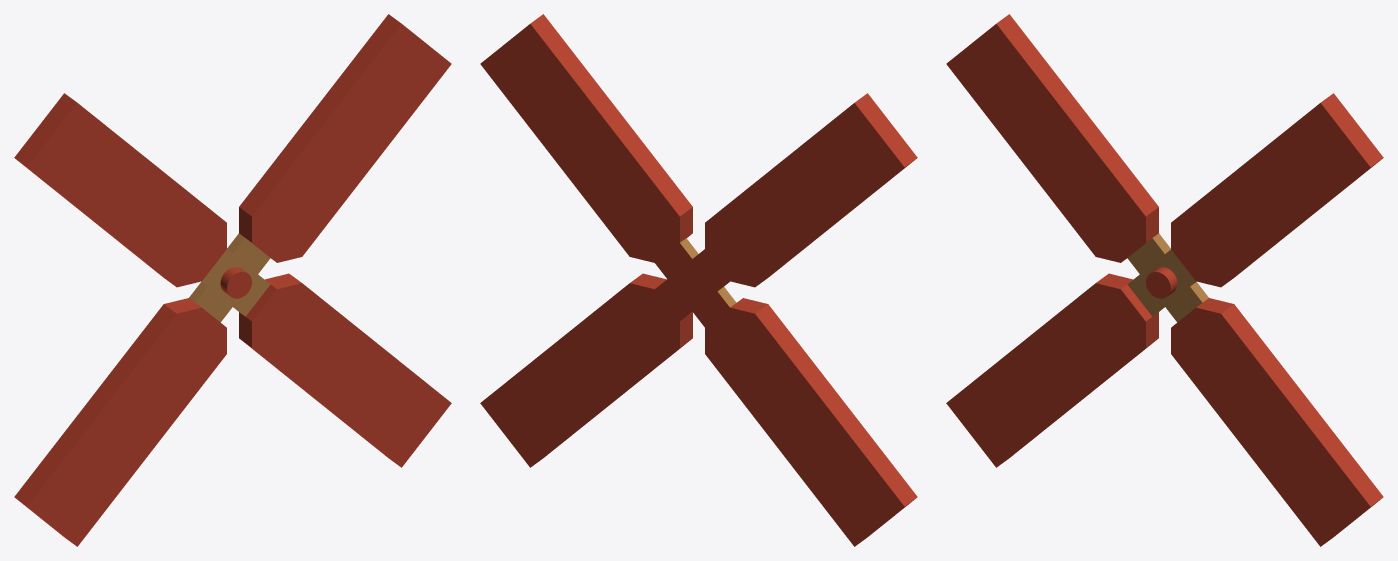
File: Windmill_Blades.FBX
3 renders of one model, left to right at view 1: azimuth 30°, elevation 25°; view 2: azimuth 150°, elevation 25°; view 3: azimuth 330°, elevation 25°, orthographic.
Visible parts, largest first — view 1: Windmill_blades_01; view 2: Windmill_blades_01; view 3: Windmill_blades_01.
Boxes of the visible parts, bbox=[...] form: Windmill_blades_01: bbox=[14, 14, 451, 546]; Windmill_blades_01: bbox=[480, 14, 917, 546]; Windmill_blades_01: bbox=[946, 14, 1383, 546].
Bounding box in the file's own units: 1.24 × 0.0667 × 1.24.
